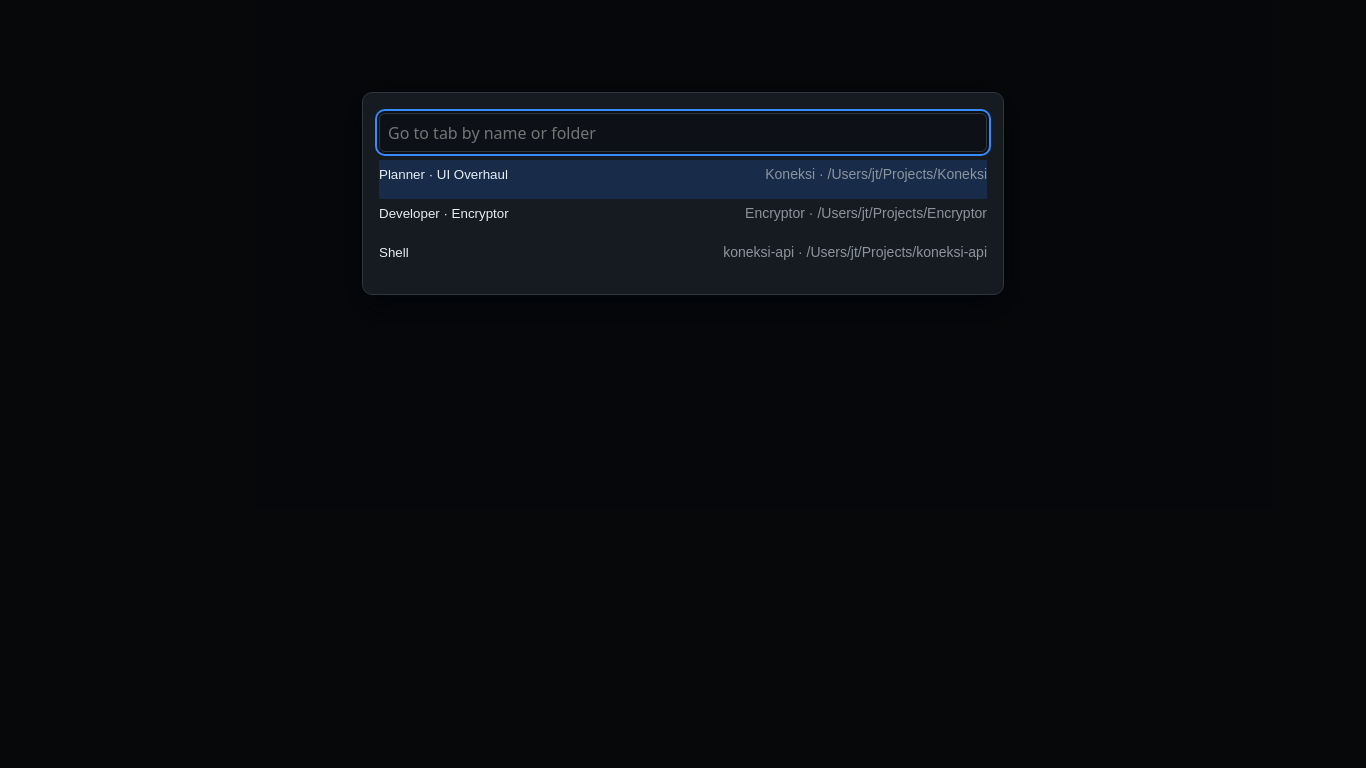
Test: TabSwitcher › says when nothing matches
Type "zzz" into the field with placeholder "Go to tab by name or folder" at x=683, y=133, box [379, 113, 987, 152]
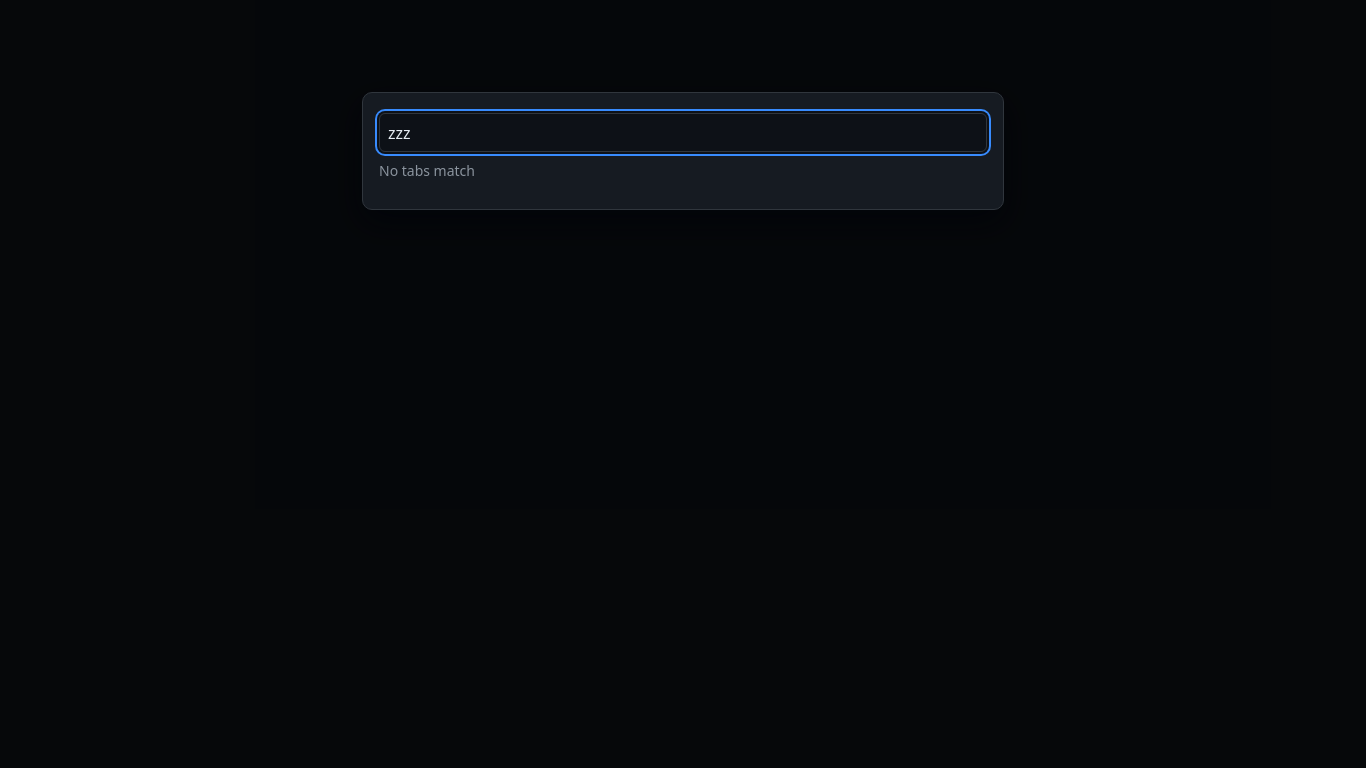
Check: the list item "No tabs match" is shown, box [379, 161, 475, 180]
